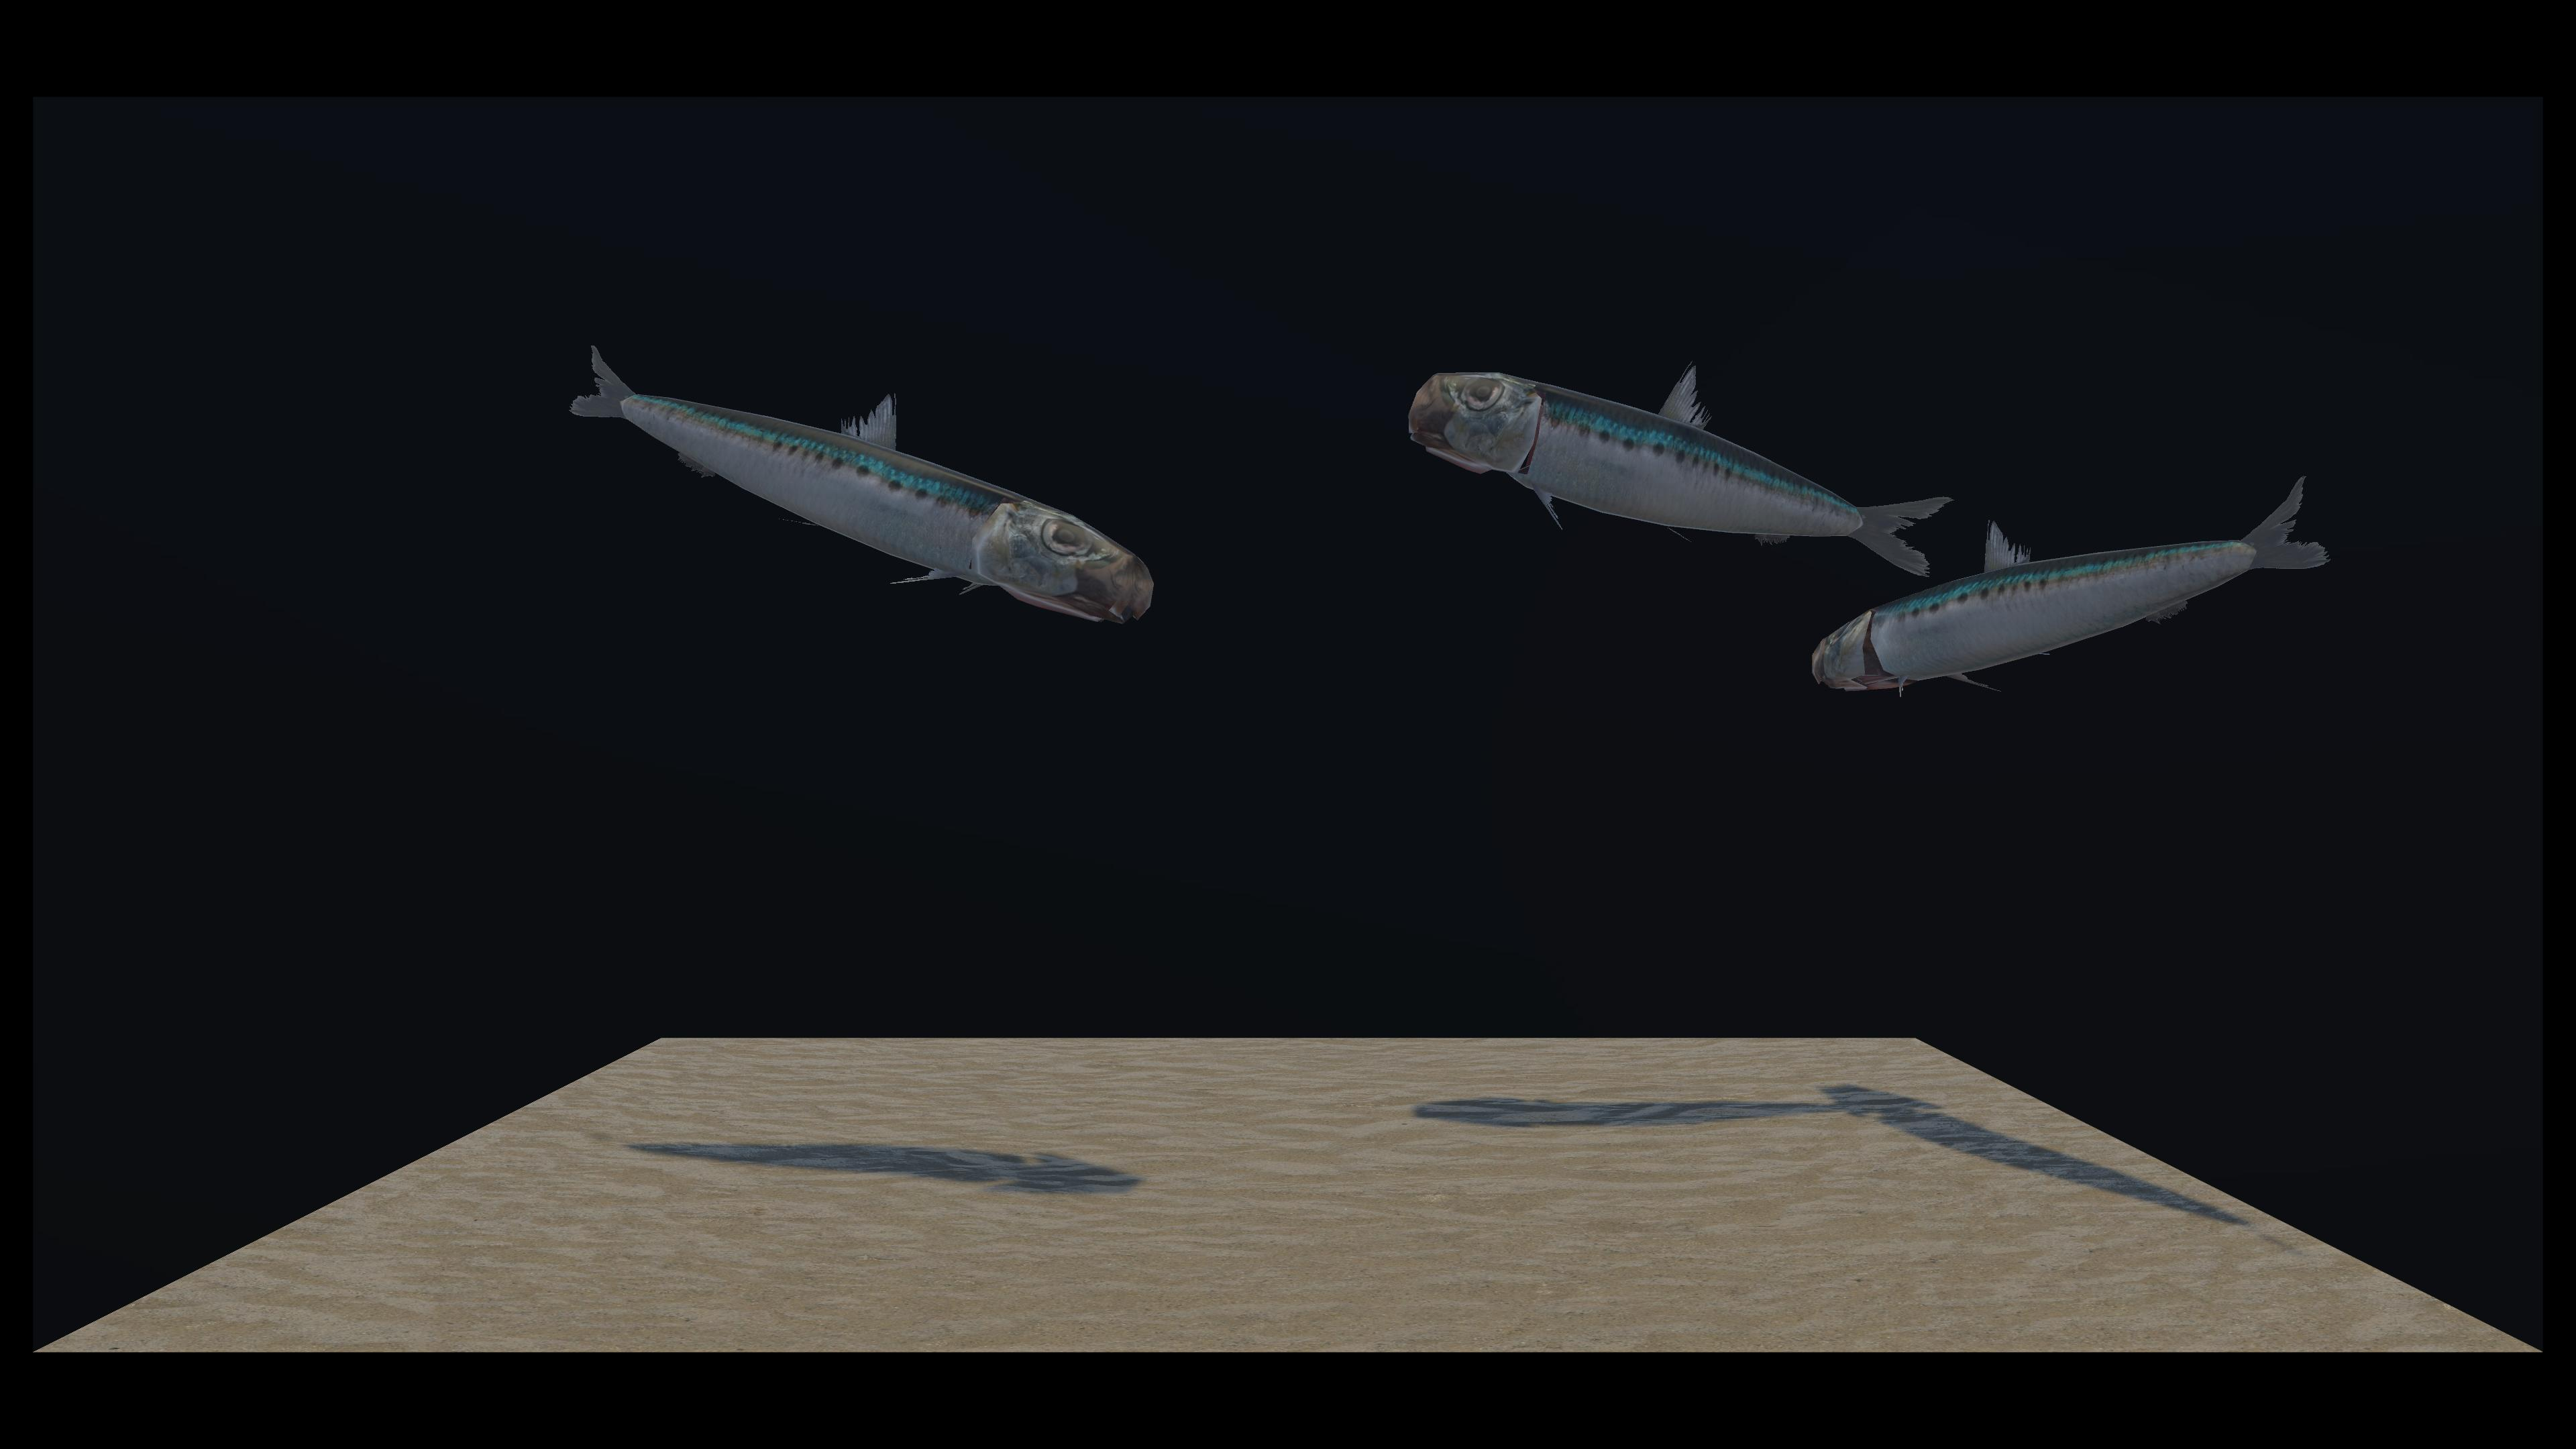Sardine_Front: (810, 354, 2335, 708), (727, 375, 1944, 573), (573, 343, 1132, 607)
